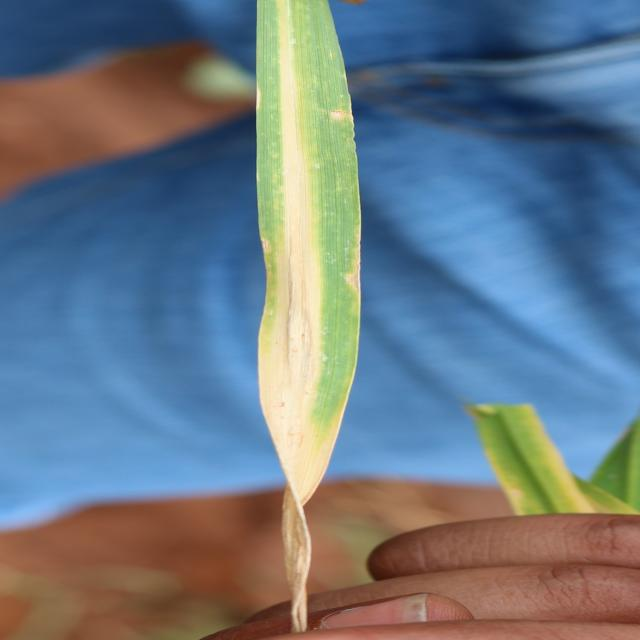Septoria: (252, 0, 364, 633)
